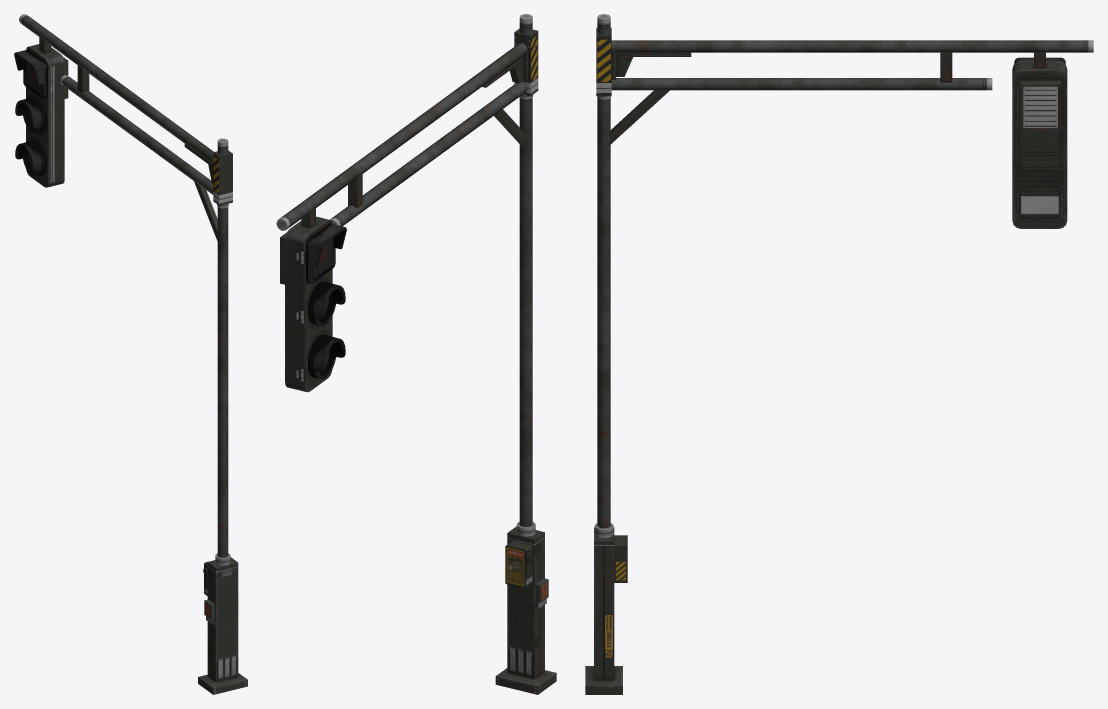
The model's file is CP_Traffic_Light_Big_02.fbx.
3 renders of one model, left to right at view 1: azimuth 30°, elevation 25°; view 2: azimuth 150°, elevation 25°; view 3: azimuth 270°, elevation 25°, orthographic. The views are drawn at different scales.
Visible parts, largest first — view 1: CP_Traffic_Light_Big_02_LOD0, CP_Traffic_Light_Big_02_Screen; view 2: CP_Traffic_Light_Big_02_LOD0, CP_Traffic_Light_Big_02_Screen; view 3: CP_Traffic_Light_Big_02_LOD0.
Boxes of the visible parts, x1=… form: CP_Traffic_Light_Big_02_LOD0: x1=14, y1=14, x2=247, y2=694; CP_Traffic_Light_Big_02_Screen: x1=23, y1=61, x2=44, y2=98; CP_Traffic_Light_Big_02_LOD0: x1=276, y1=14, x2=556, y2=694; CP_Traffic_Light_Big_02_Screen: x1=310, y1=237, x2=335, y2=283; CP_Traffic_Light_Big_02_LOD0: x1=585, y1=14, x2=1093, y2=694.
Size of what is drawn, in the model's own units: 38.62 by 522 by 360.
